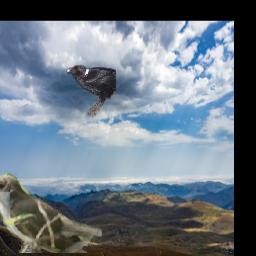Crow: (66, 65, 116, 118)
Cuckoo: (0, 174, 101, 254)
